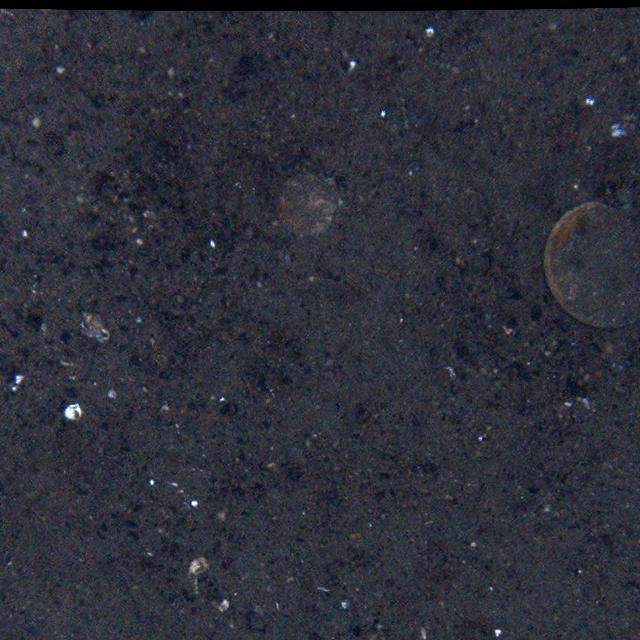scallop: (548, 199, 640, 330), (279, 165, 342, 239)
